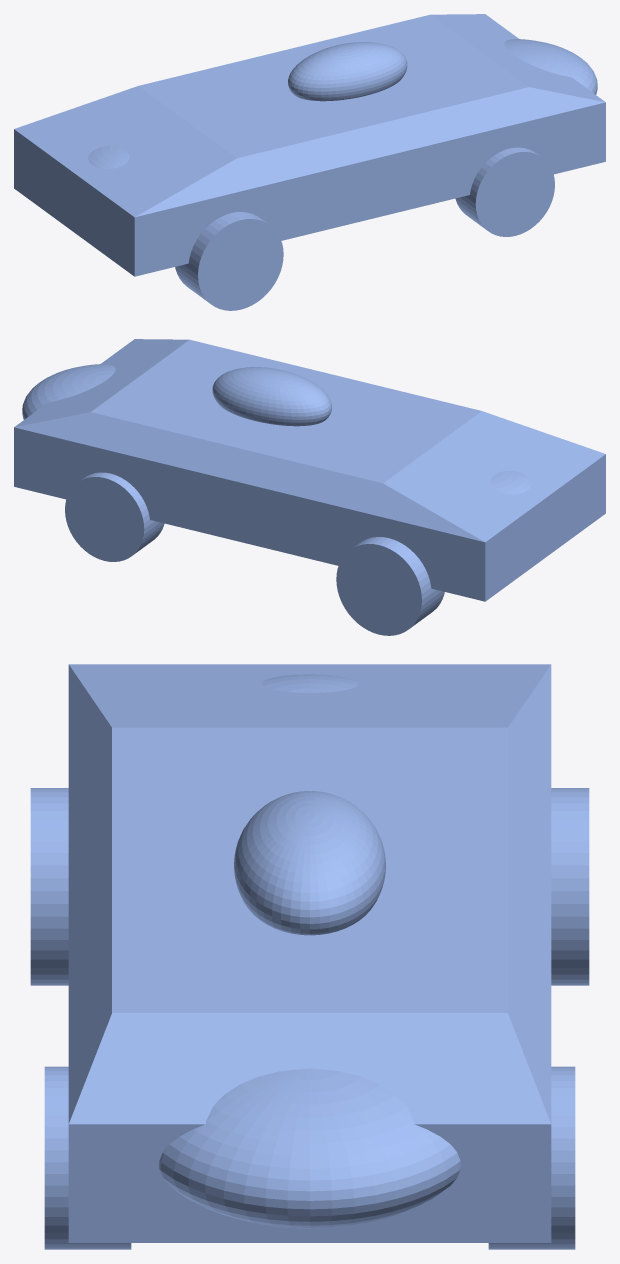
The model's file is car-9e32521d.glb.
3 views of the same model, one above another, from view 1: azimuth 30°, elevation 25°; view 2: azimuth 150°, elevation 25°; view 3: azimuth 270°, elevation 25° (orthographic). The views are drawn at different scales.
Visible parts, largest first — view 1: output; view 2: output; view 3: output.
Boxes of the visible parts, x1=… form: output: x1=14, y1=14, x2=605, y2=310; output: x1=14, y1=339, x2=605, y2=635; output: x1=30, y1=664, x2=589, y2=1249.
Bounding box in the file's own units: 2.3 × 0.7148 × 1.09.
